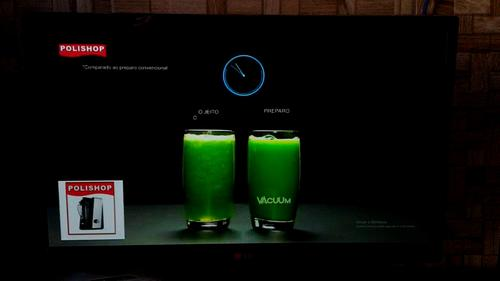Polishop #1: (56, 179, 125, 240)
